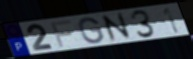1: (162, 7, 181, 33)
2: (26, 23, 55, 52)
3: (130, 9, 157, 39)
F: (49, 19, 74, 48)
G: (78, 16, 105, 45)
N: (99, 11, 134, 43)
